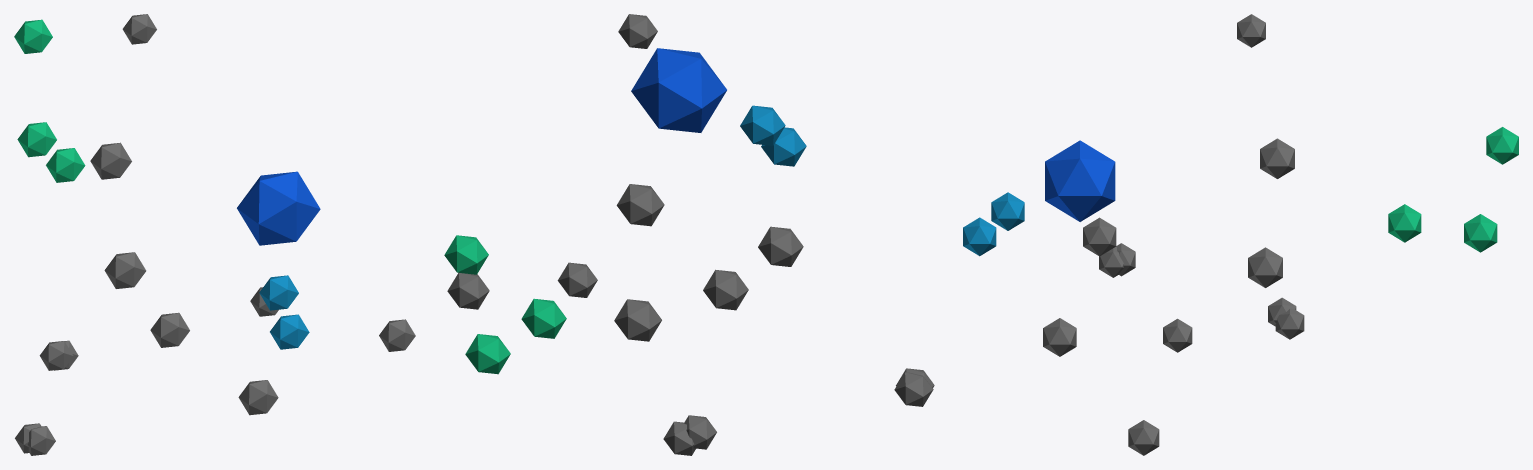
3 renders of one model, left to right at view 1: azimuth 30°, elevation 25°; view 2: azimuth 150°, elevation 25°; view 3: azimuth 270°, elevation 25°, orthographic. The views are drawn at different scales.
Parts seen in each view (by area): view 1: 05_07_09; view 2: 05_07_09; view 3: 05_07_09.
Part boxes in pixels (<box>): 05_07_09: <box>14,14,415,455</box>; 05_07_09: <box>444,14,934,455</box>; 05_07_09: <box>963,14,1518,455</box>.
Bounding box in the file's own units: 0.4819 × 0.403 × 0.5861.
